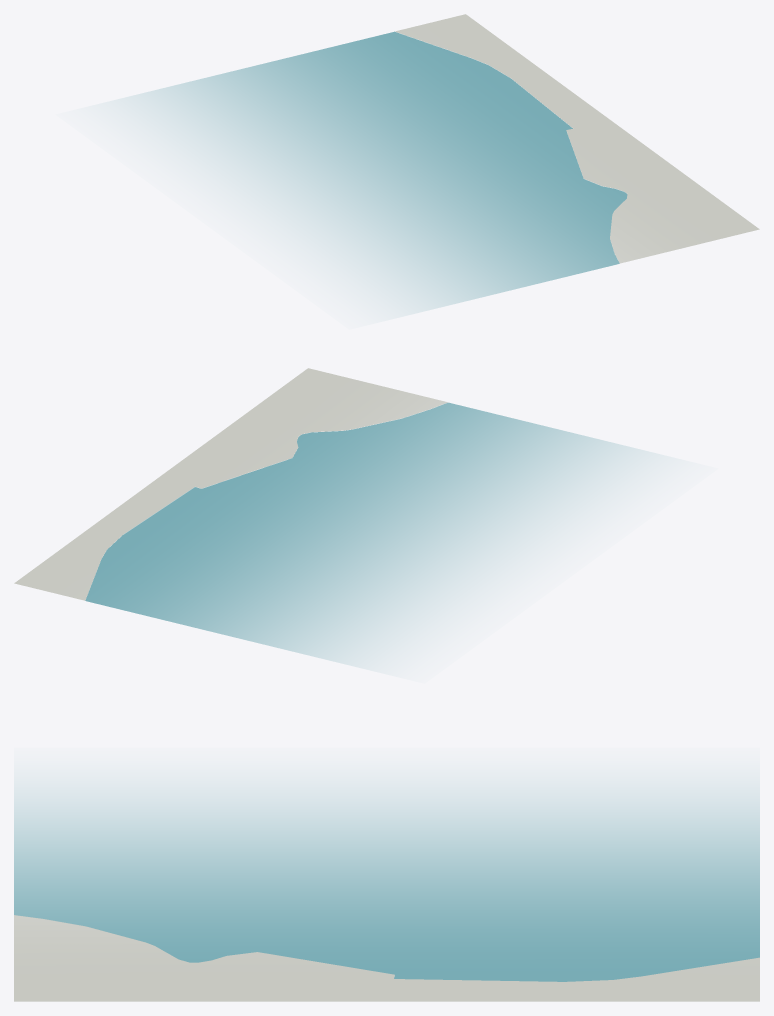
3 views of the same model, one above another, from view 1: azimuth 30°, elevation 25°; view 2: azimuth 150°, elevation 25°; view 3: azimuth 270°, elevation 25° (orthographic). The views are drawn at different scales.
Visible parts, largest first — view 1: city; view 2: city; view 3: city.
Part boxes in pixels (x1,y1,x2,y2): city: (116, 14, 759, 314); city: (14, 368, 657, 668); city: (14, 785, 759, 1001).
Size of the model in its own units: 443 by 0.18 by 500.
